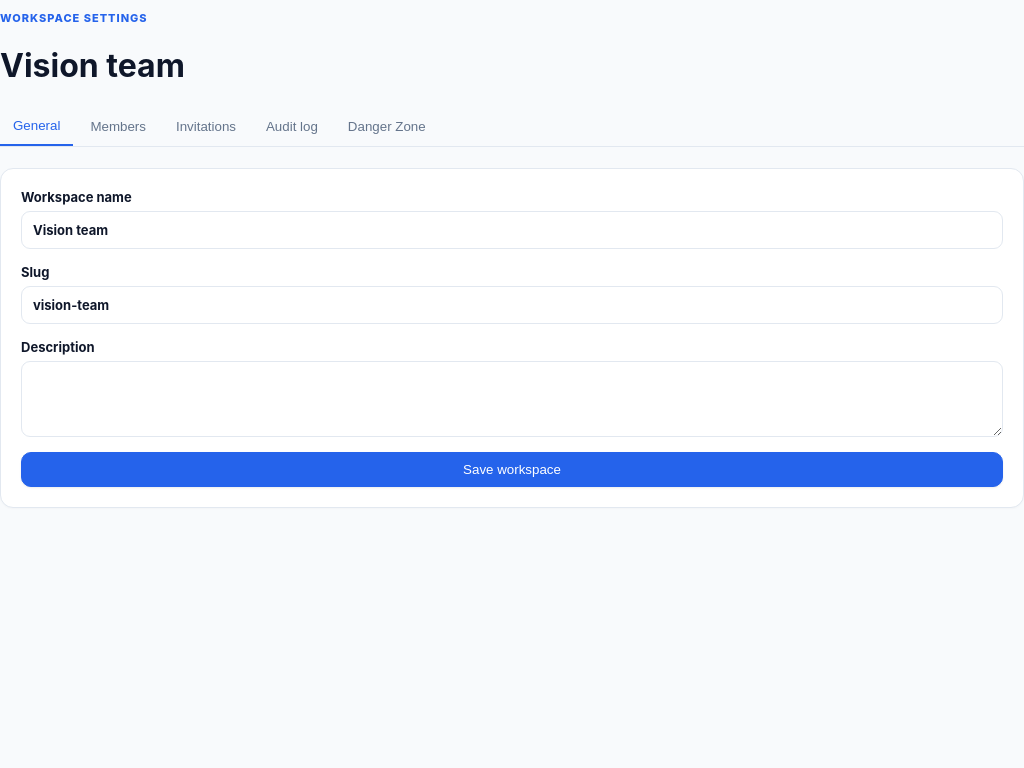
Test: duplicate invitation error is shown
This screenshot has width=1024, height=768.
Click the button "Invitations".
click(206, 126)  # box [163, 107, 249, 146]
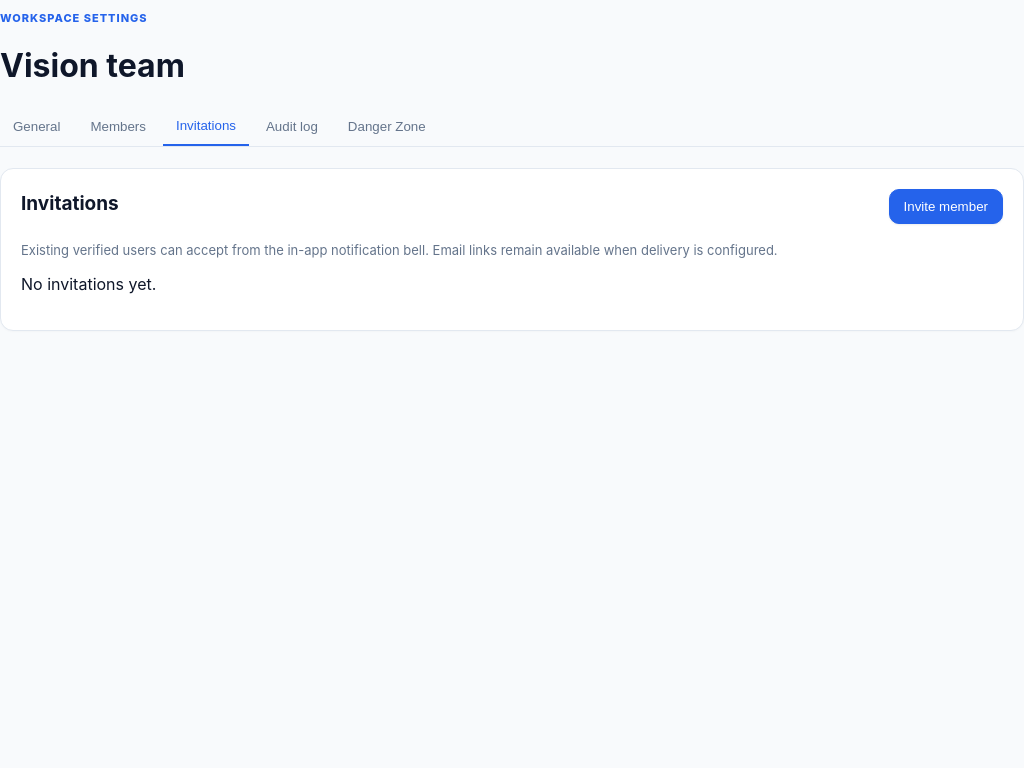
Click the button "Invite member".
click(946, 206)  # box [888, 189, 1003, 224]
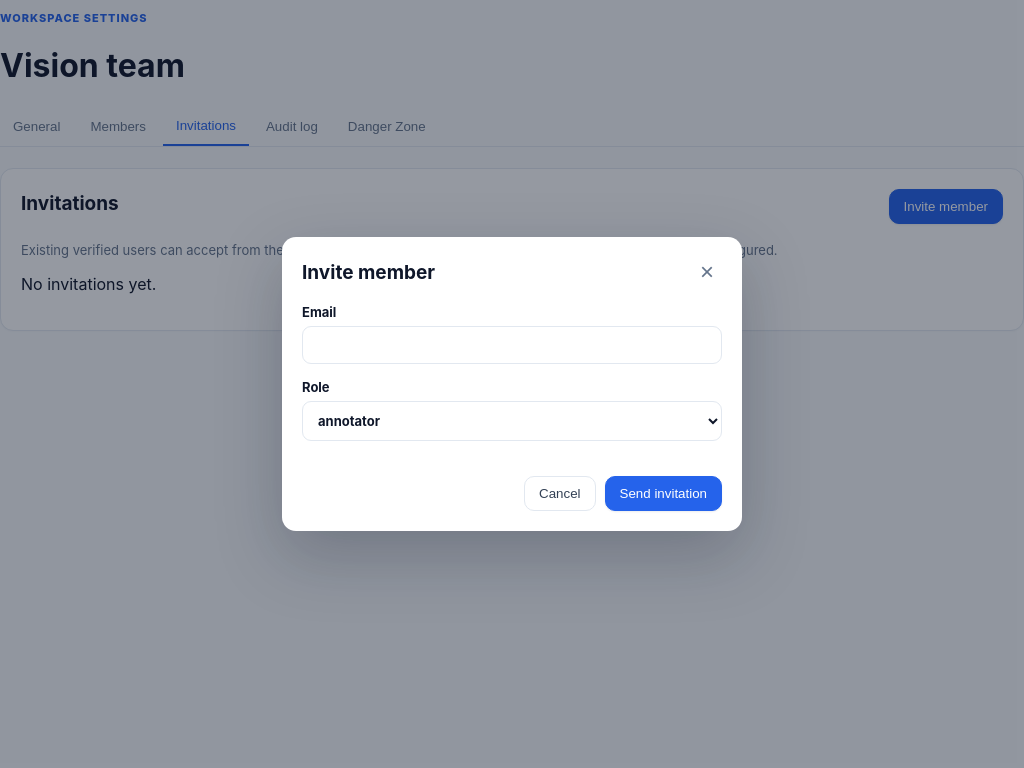
Type "new@example.com" into the field labelled "Email".
click(512, 345); type("new@example.com")  # box [302, 326, 722, 364]
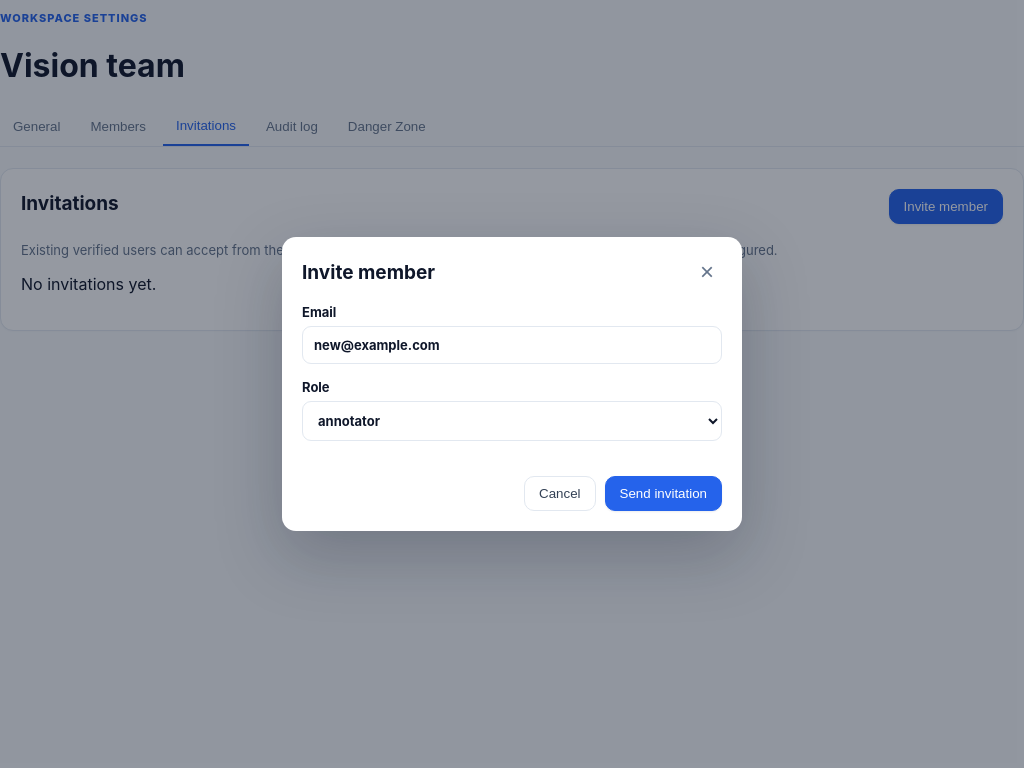
Click the button "Send invitation".
click(663, 494)  # box [605, 476, 722, 511]
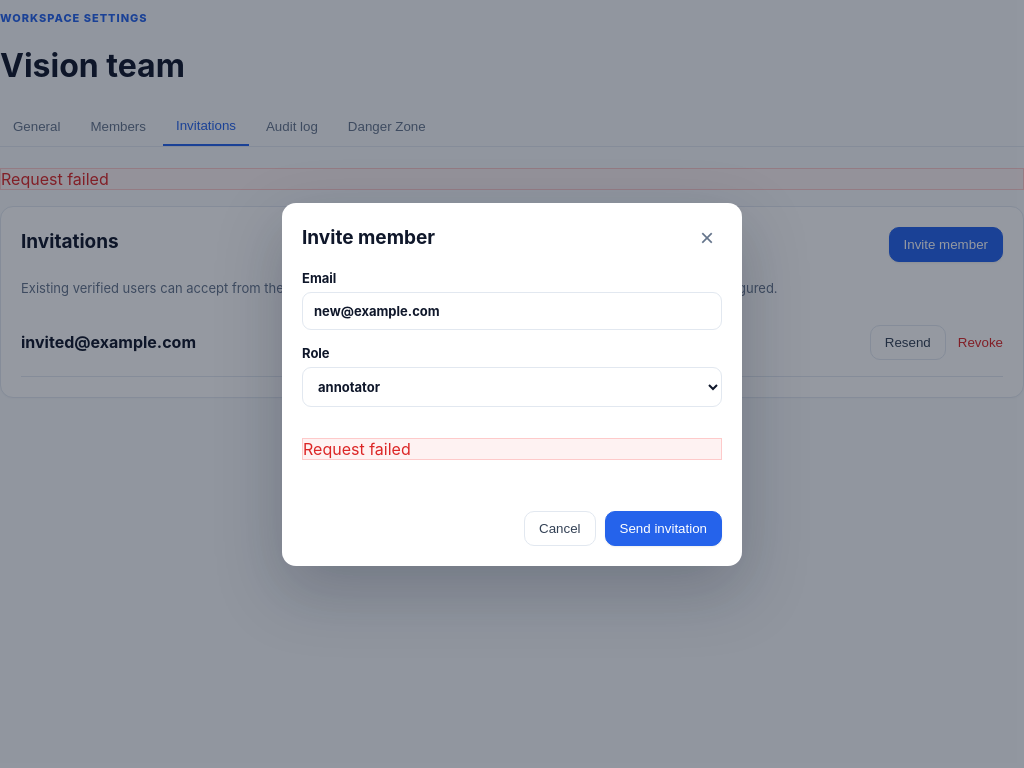
Expected: the message "Request failed" is shown, [0, 168, 1023, 190]
